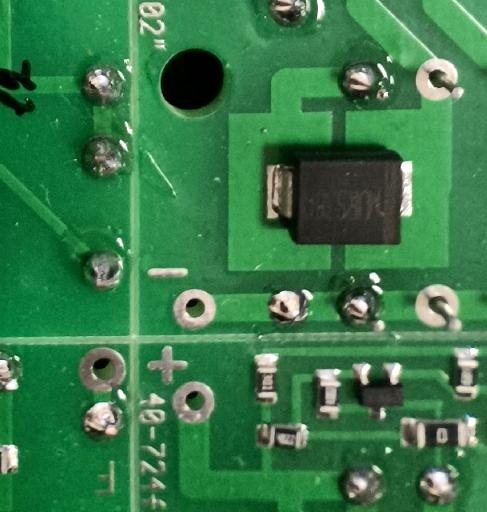chip-resistor: (399, 415, 479, 450), (451, 345, 480, 401), (256, 421, 309, 450), (314, 366, 342, 419), (253, 352, 279, 403)
diode: (263, 148, 416, 248)
transistor: (352, 360, 405, 421)
